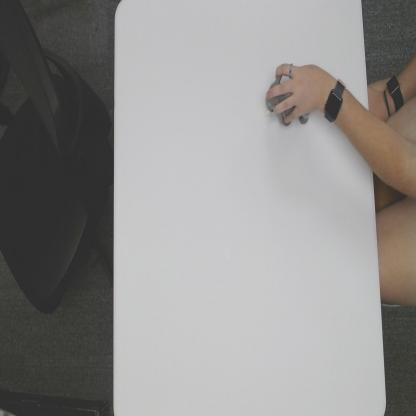Arm: (347, 87, 372, 170)
Elephant: (264, 73, 306, 127)
Hand: (266, 61, 322, 123)
